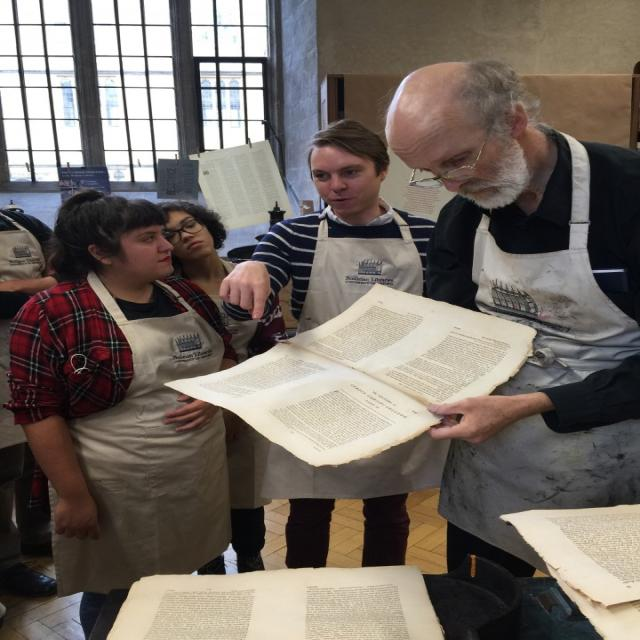body: (382, 57, 639, 586), (4, 190, 240, 639), (216, 117, 445, 571), (155, 198, 287, 576), (0, 202, 68, 603)
